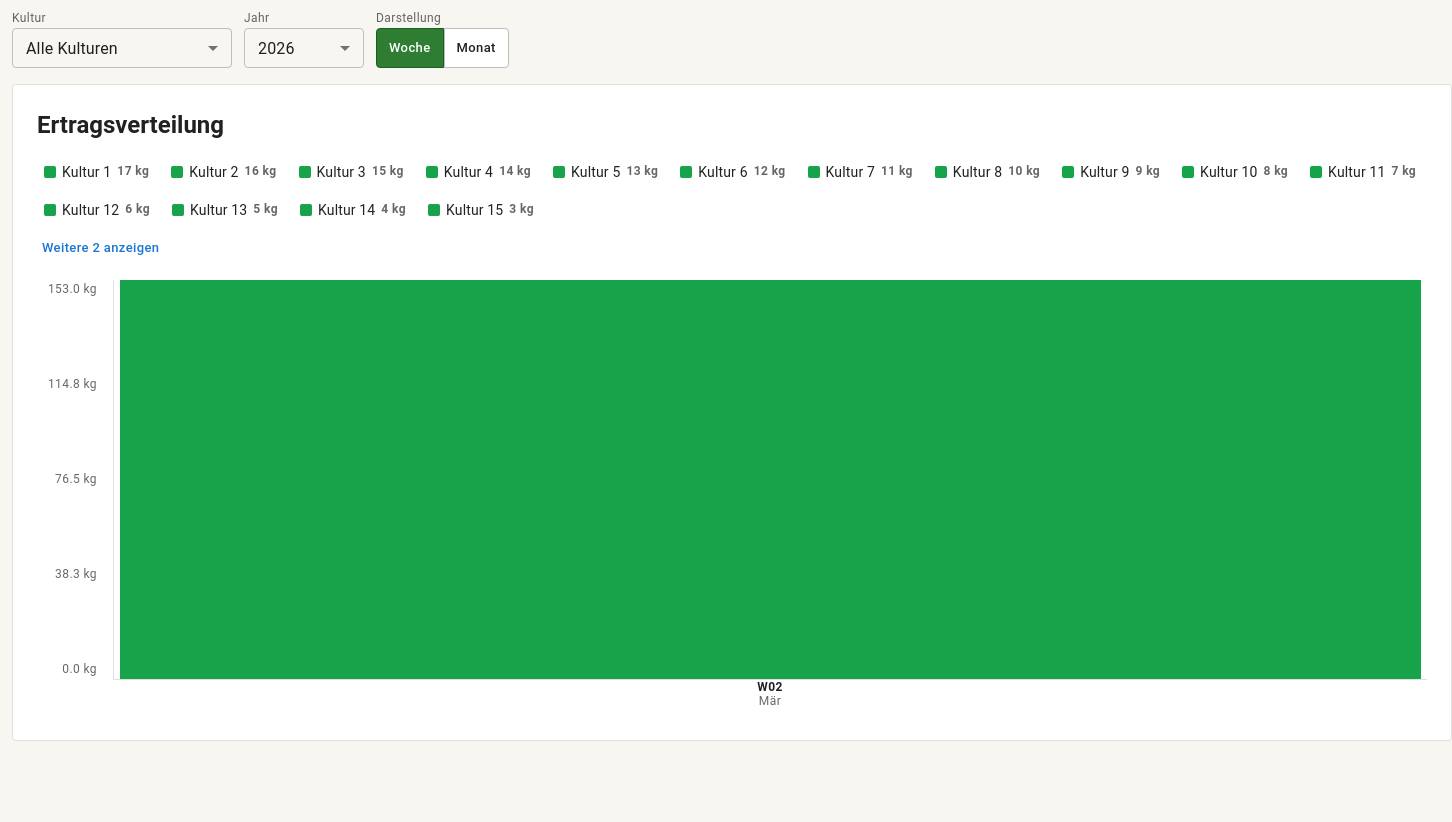
Test: YieldOverviewPage › legend › shows the top 15 legend entries and can expand or collapse the remaining cultures
Expected: the heading "Ertragsverteilung" is shown, [37,111,224,139]
Expected: the text "Kultur 1" is shown, [62,163,111,181]
Click the button "Weitere 2 anzeigen".
click(101, 248)  # box [37,233,164,264]
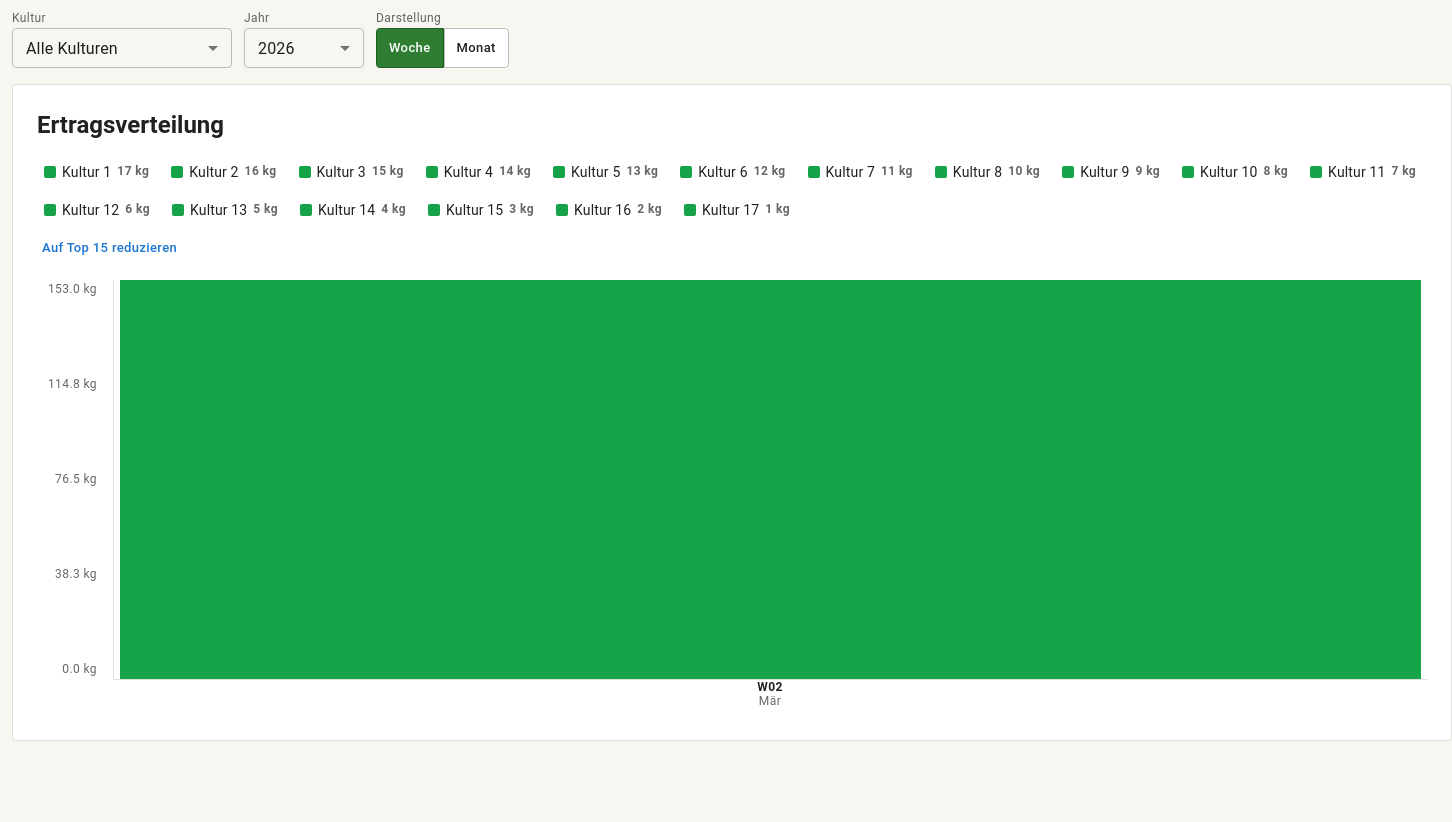
Now the text "Kultur 17" is shown, box [702,201,759,219]
Click the button "Auf Top 15 reduzieren".
click(110, 248)  # box [37,233,182,264]
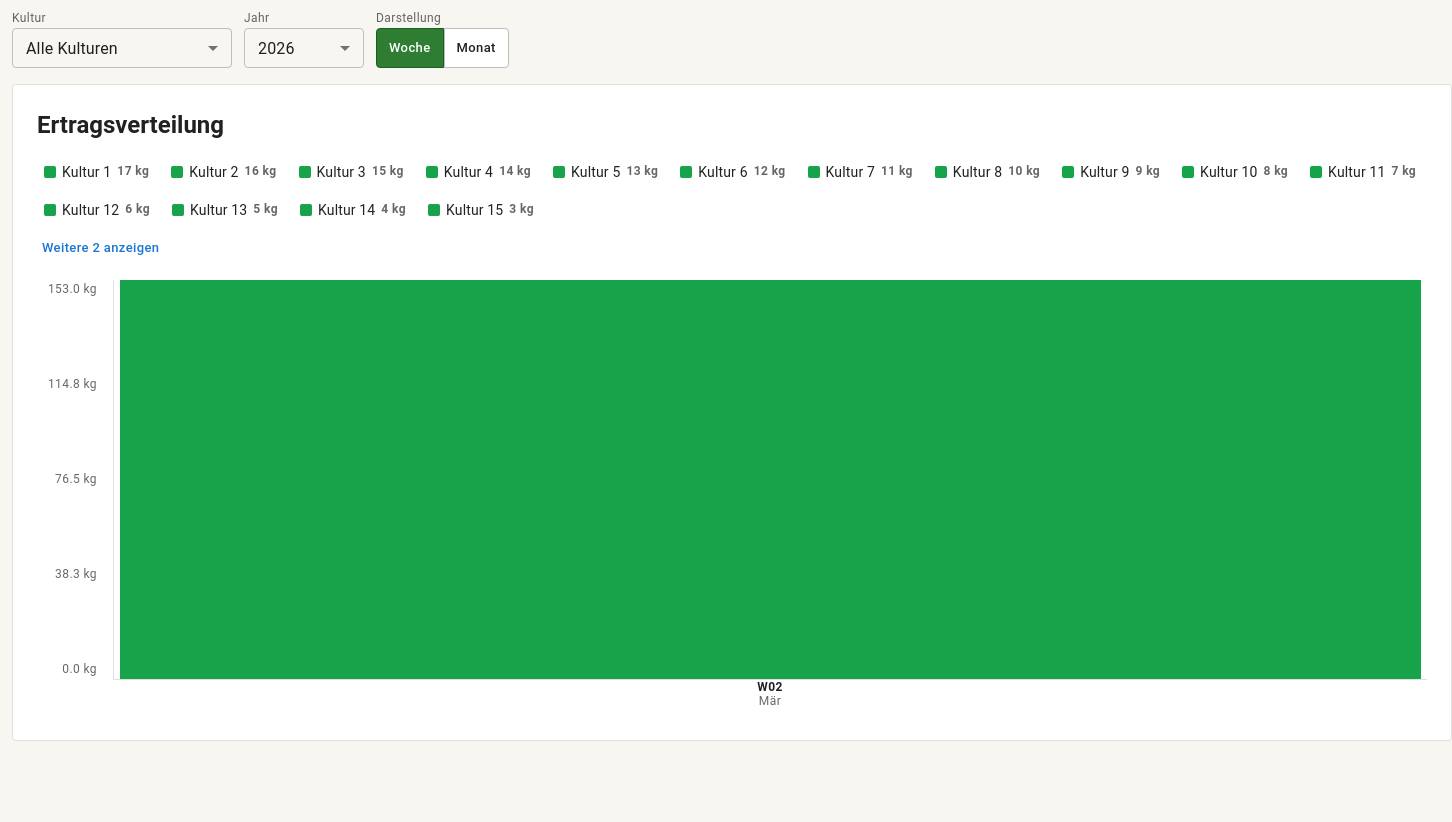
Now the button "Kultur 16" is gone
